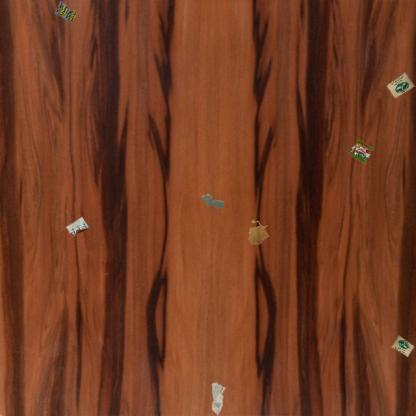dirty: (385, 71, 415, 100), (346, 138, 374, 164), (210, 381, 227, 415), (53, 1, 78, 24), (391, 334, 415, 357), (65, 216, 90, 238)
liquid: (247, 219, 270, 246), (200, 193, 226, 211)
